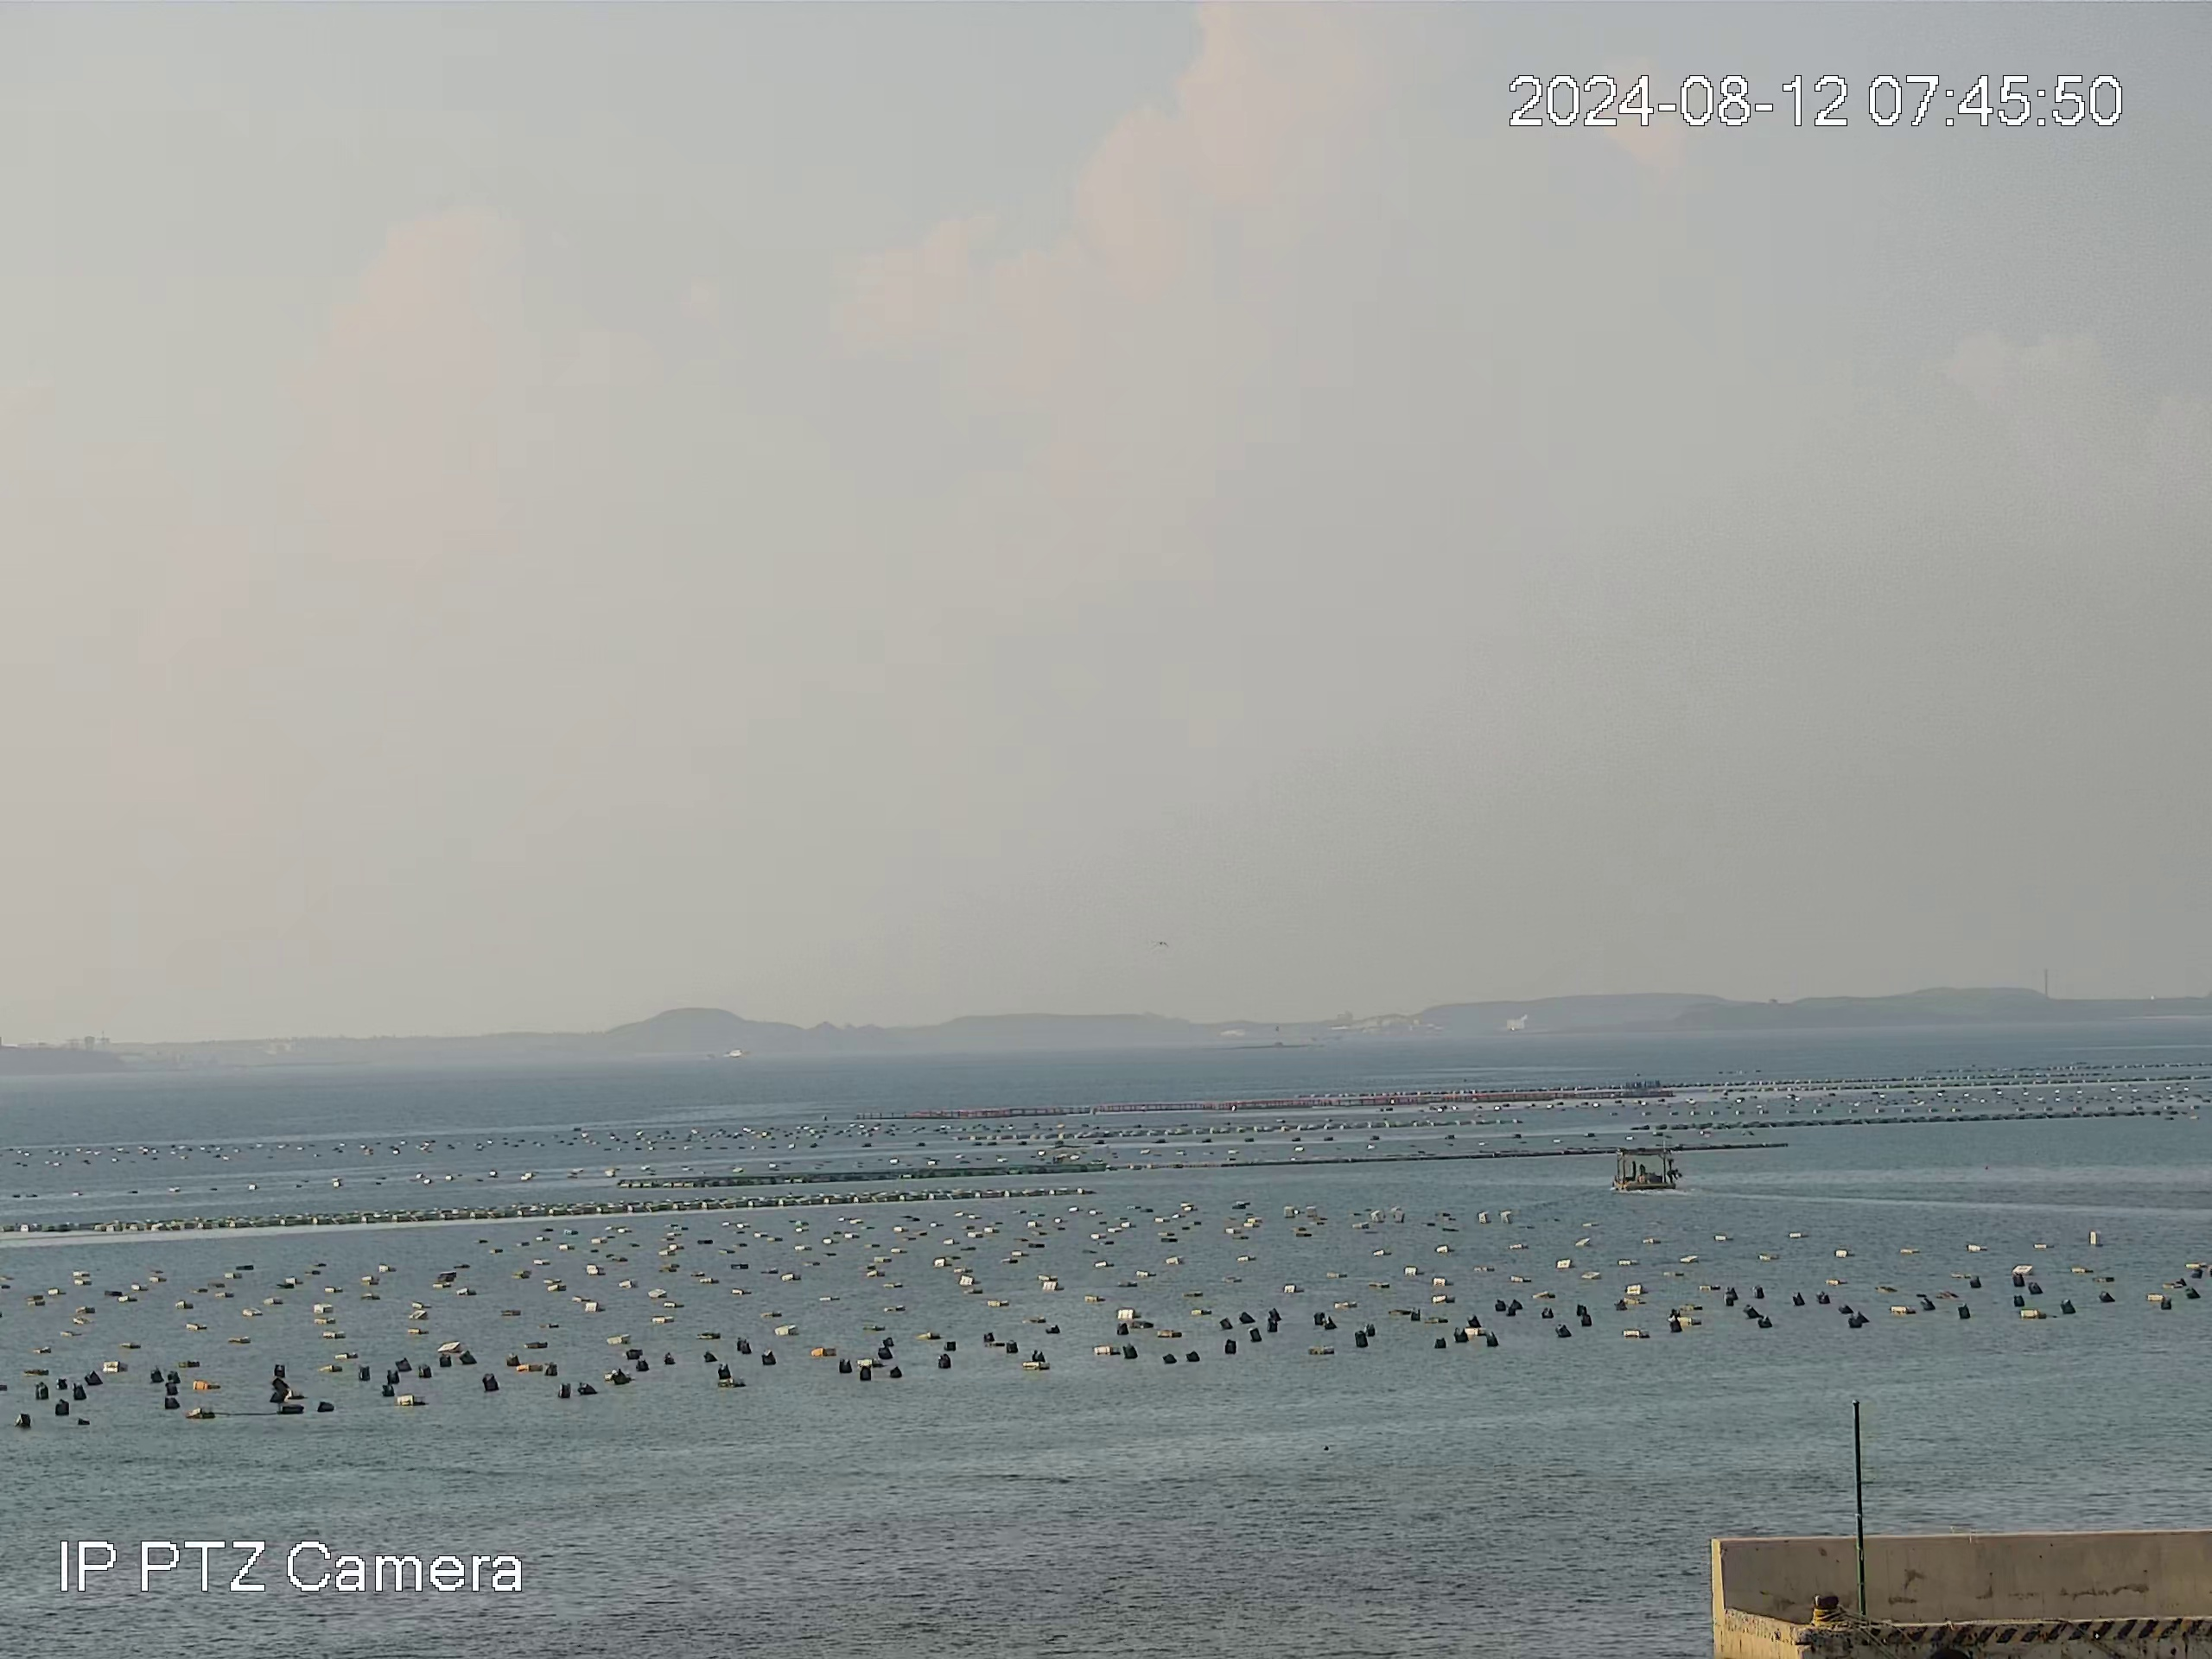boat: (1613, 1145, 1681, 1190)
